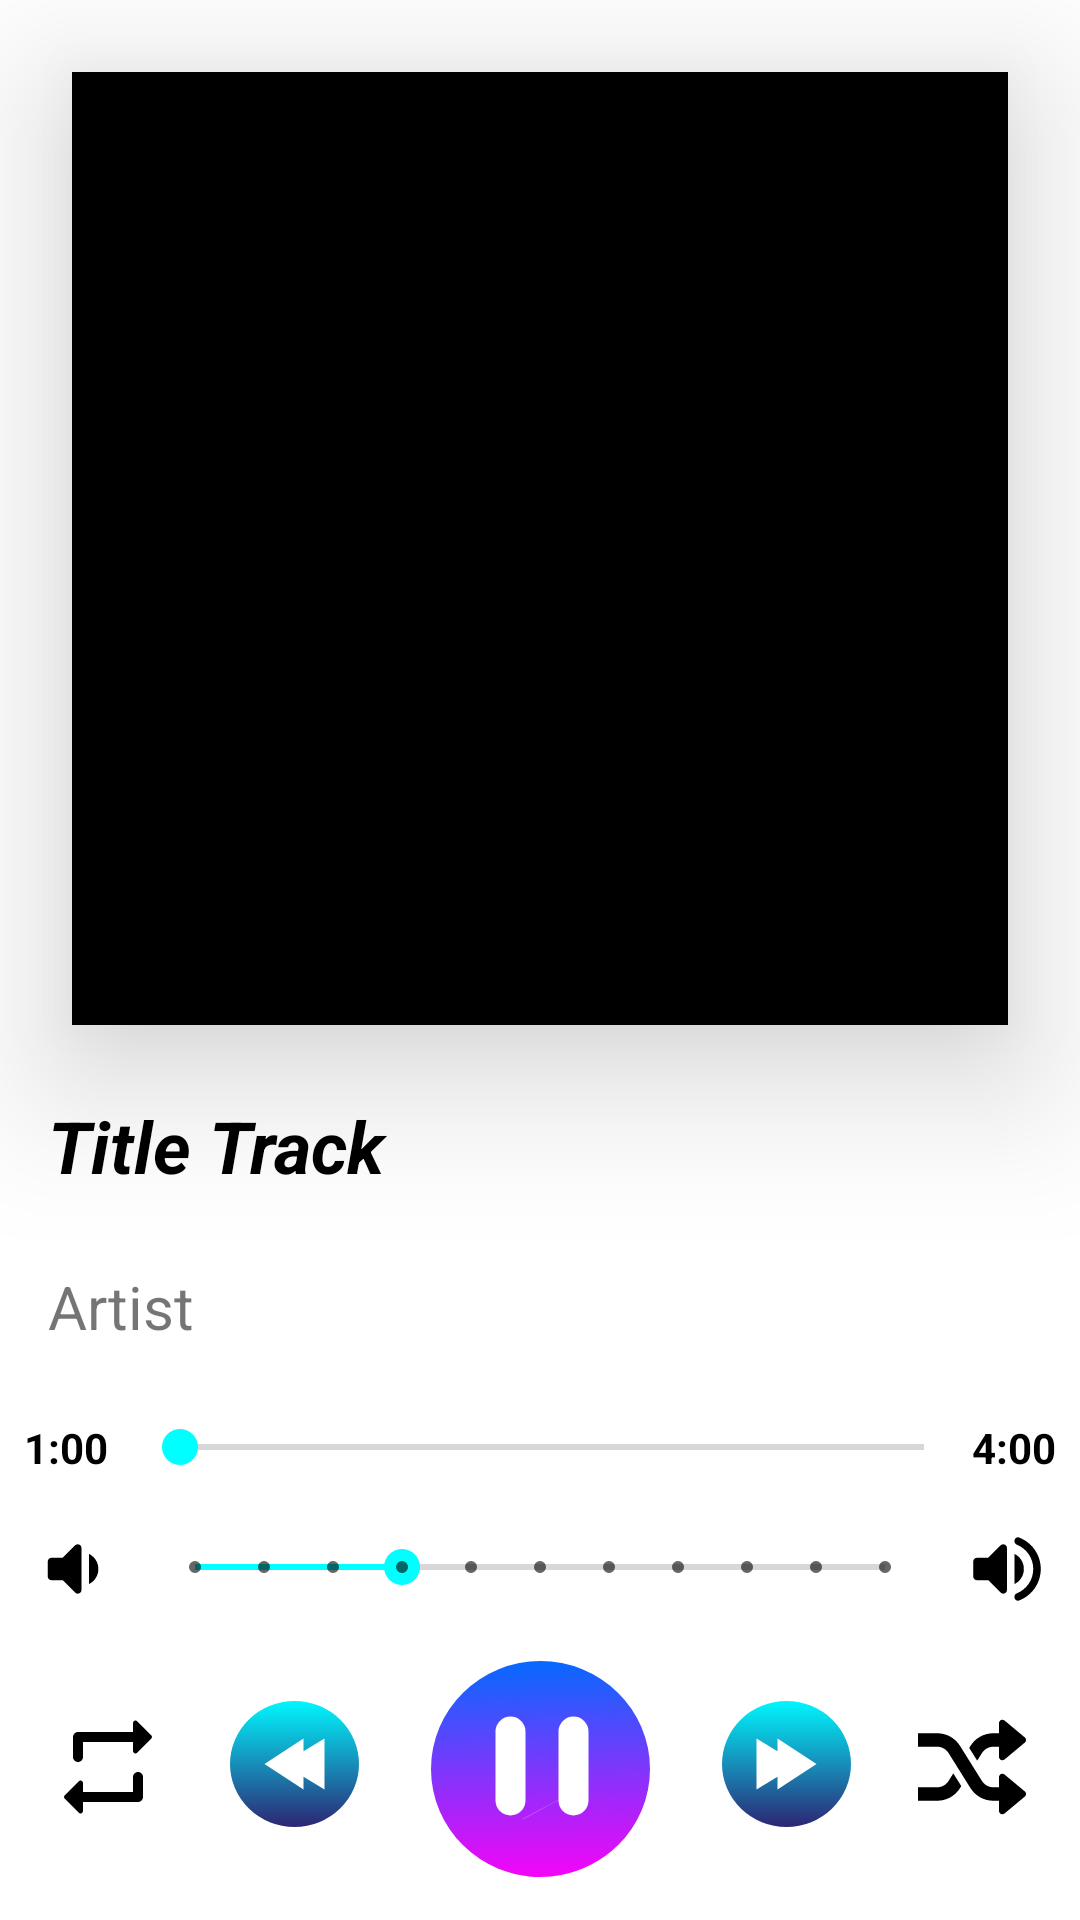

Named icons in this screenshot (1080px×1920px) and their bounding boxes, (x1, y1, x2, y2):
forward: (722, 1701, 851, 1827)
pause: (431, 1661, 650, 1877)
previous: (230, 1701, 359, 1827)
repeat: (64, 1720, 152, 1814)
shuffle: (918, 1719, 1026, 1815)
volume down: (47, 1544, 99, 1594)
volume up: (973, 1537, 1041, 1601)
